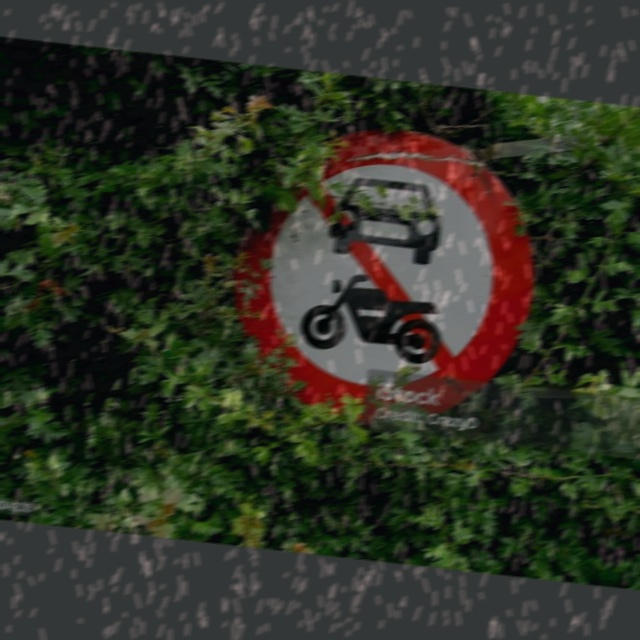All_Motor_Vehicles_Prohibited: (221, 114, 548, 443)
